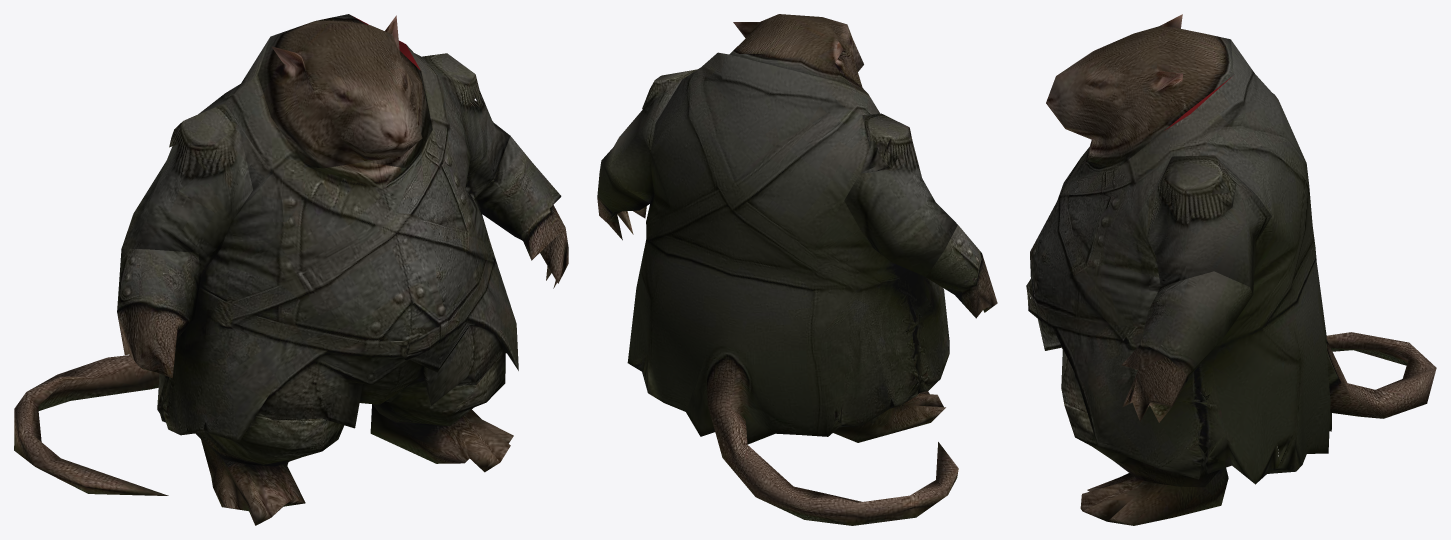
Rendered from cavalry_base_gibs.glb.
3 views of the same model, side by side, from view 1: azimuth 30°, elevation 25°; view 2: azimuth 150°, elevation 25°; view 3: azimuth 270°, elevation 25° (orthographic). The views are drawn at different scales.
Visible parts, largest first — view 1: Body.001, Head.001, ARm.R.001, Forarm.R.001, Forarm.L.001, Leg.L.001, Upleg.R.001, Arm.L.001, Leg.R.001, Upleg.L.001; view 2: Body.001, ARm.R.001, Head.001, Arm.L.001, Forarm.R.001, Leg.R.001, Forarm.L.001; view 3: Body.001, Head.001, Arm.L.001, Forarm.L.001, Leg.L.001, Upleg.L.001.
Part boxes in pixels (x1=…): Body.001: x1=14, y1=16, x2=518, y2=495; Head.001: x1=258, y1=14, x2=432, y2=168; ARm.R.001: x1=121, y1=103, x2=252, y2=276; Forarm.R.001: x1=117, y1=249, x2=200, y2=378; Forarm.L.001: x1=474, y1=136, x2=568, y2=288; Leg.L.001: x1=370, y1=404, x2=513, y2=472; Upleg.R.001: x1=195, y1=412, x2=344, y2=466; Arm.L.001: x1=422, y1=53, x2=510, y2=198; Leg.R.001: x1=201, y1=439, x2=305, y2=525; Upleg.L.001: x1=373, y1=352, x2=505, y2=426; Body.001: x1=627, y1=52, x2=958, y2=525; ARm.R.001: x1=844, y1=113, x2=957, y2=276; Head.001: x1=729, y1=14, x2=867, y2=93; Arm.L.001: x1=610, y1=69, x2=697, y2=203; Forarm.R.001: x1=925, y1=225, x2=997, y2=318; Leg.R.001: x1=833, y1=391, x2=945, y2=442; Forarm.L.001: x1=597, y1=138, x2=649, y2=240; Body.001: x1=1026, y1=40, x2=1436, y2=484; Head.001: x1=1046, y1=14, x2=1233, y2=166; Arm.L.001: x1=1138, y1=155, x2=1271, y2=294; Forarm.L.001: x1=1121, y1=271, x2=1252, y2=422; Leg.L.001: x1=1080, y1=467, x2=1228, y2=525; Upleg.L.001: x1=1064, y1=405, x2=1219, y2=487.
Size of the model in its own units: 0.9816 by 0.9009 by 0.7744.
2 materials, 1 textured.
